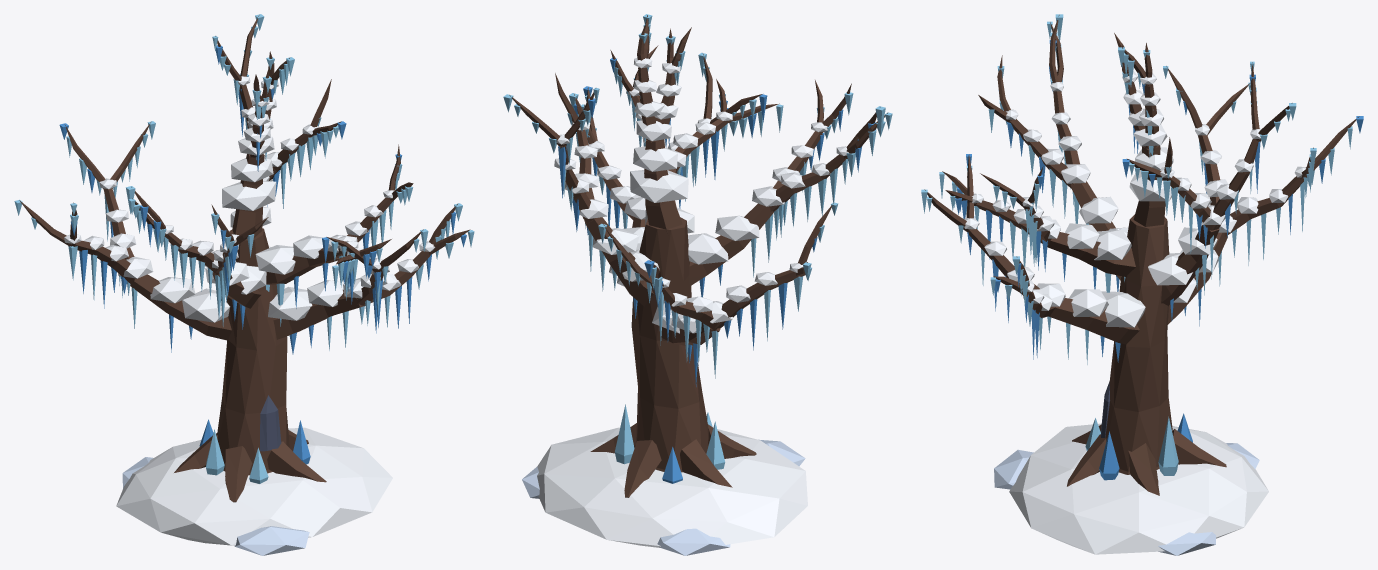
The model's file is Tundra_1_FrozenTree.fbx.
The picture shows the model from 3 angles, left to right: view 1: azimuth 30°, elevation 25°; view 2: azimuth 150°, elevation 25°; view 3: azimuth 270°, elevation 25°; orthographic projection. The views are drawn at different scales.
Parts seen in each view (by area): view 1: Tundra_1_FrozenTree__Tundra_Snow, Tundra_1_FrozenTree__Tundra_Trunk, Tundra_1_FrozenTree__Tundra_Ice, Tundra_1_FrozenTree__Tundra_IceDeep, Tundra_1_FrozenTree__Tundra_SnowShade, Tundra_1_FrozenTree__Tundra_RockDark; view 2: Tundra_1_FrozenTree__Tundra_Snow, Tundra_1_FrozenTree__Tundra_Trunk, Tundra_1_FrozenTree__Tundra_Ice, Tundra_1_FrozenTree__Tundra_IceDeep, Tundra_1_FrozenTree__Tundra_SnowShade; view 3: Tundra_1_FrozenTree__Tundra_Snow, Tundra_1_FrozenTree__Tundra_Trunk, Tundra_1_FrozenTree__Tundra_Ice, Tundra_1_FrozenTree__Tundra_IceDeep, Tundra_1_FrozenTree__Tundra_SnowShade.
Boxes of the visible parts, x1,y1,x2,y2 form: Tundra_1_FrozenTree__Tundra_Snow: (64,76,435,545); Tundra_1_FrozenTree__Tundra_Trunk: (19,15,470,502); Tundra_1_FrozenTree__Tundra_Ice: (14,14,474,483); Tundra_1_FrozenTree__Tundra_IceDeep: (59,45,466,464); Tundra_1_FrozenTree__Tundra_SnowShade: (122,457,309,555); Tundra_1_FrozenTree__Tundra_RockDark: (260,395,281,451); Tundra_1_FrozenTree__Tundra_Snow: (537,58,848,547); Tundra_1_FrozenTree__Tundra_Trunk: (509,15,887,497); Tundra_1_FrozenTree__Tundra_Ice: (503,14,892,469); Tundra_1_FrozenTree__Tundra_IceDeep: (558,58,875,483); Tundra_1_FrozenTree__Tundra_SnowShade: (522,439,805,555); Tundra_1_FrozenTree__Tundra_Snow: (964,71,1305,554); Tundra_1_FrozenTree__Tundra_Trunk: (924,15,1359,495); Tundra_1_FrozenTree__Tundra_Ice: (921,14,1352,475); Tundra_1_FrozenTree__Tundra_IceDeep: (955,40,1363,480); Tundra_1_FrozenTree__Tundra_SnowShade: (994,443,1259,555).
Size of the model in its own units: 60.5 by 75.3 by 64.97.
